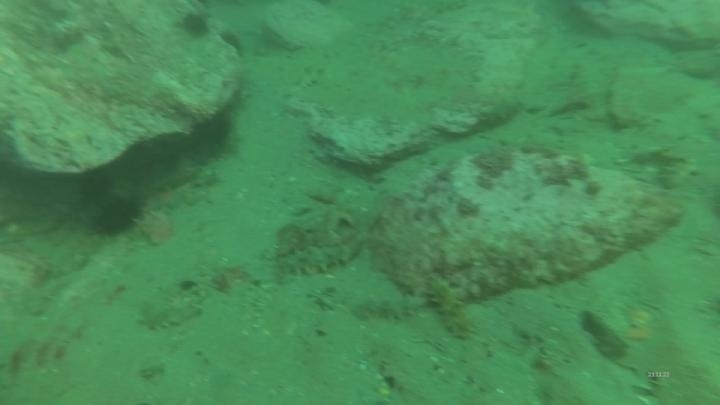echinus: (182, 110, 236, 167), (90, 192, 145, 239), (75, 166, 116, 205), (176, 9, 213, 42), (217, 27, 247, 60)
holothurian: (278, 234, 367, 279), (424, 275, 477, 342), (134, 291, 205, 334), (349, 291, 430, 325)
starfish: (145, 183, 189, 216)
